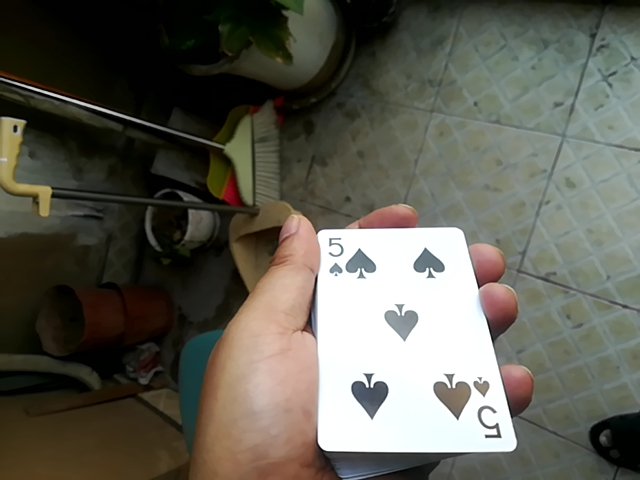ht 5: (312, 239, 505, 456)
